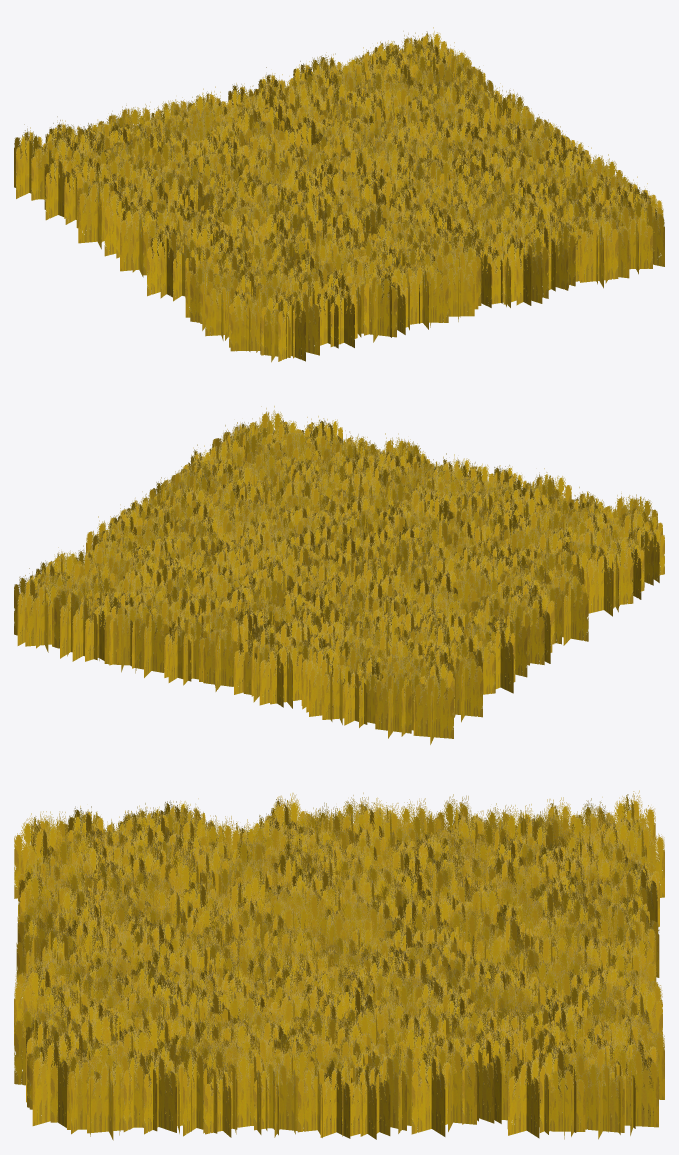
Rendered from Farmi_Pelto_10m_LOD0.fbx.
The picture shows the model from 3 angles, top to bottom: view 1: azimuth 30°, elevation 25°; view 2: azimuth 150°, elevation 25°; view 3: azimuth 270°, elevation 25°; orthographic projection. The views are drawn at different scales.
Parts seen in each view (by area): view 1: Farmi_Pelto_10m_LOD0; view 2: Farmi_Pelto_10m_LOD0; view 3: Farmi_Pelto_10m_LOD0.
Part boxes in pixels (x1,y1,x2,y2): Farmi_Pelto_10m_LOD0: (14,27,664,362); Farmi_Pelto_10m_LOD0: (14,406,664,744); Farmi_Pelto_10m_LOD0: (14,790,664,1140).
Size of the model in its own units: 1069 by 171 by 1070.
